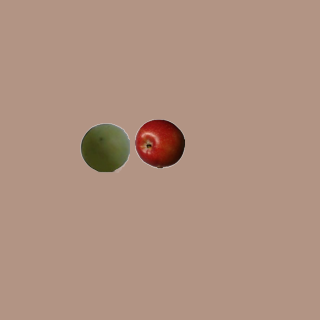Apple Braeburn: (134, 118, 184, 168)
Grape White 4: (79, 122, 129, 172)
